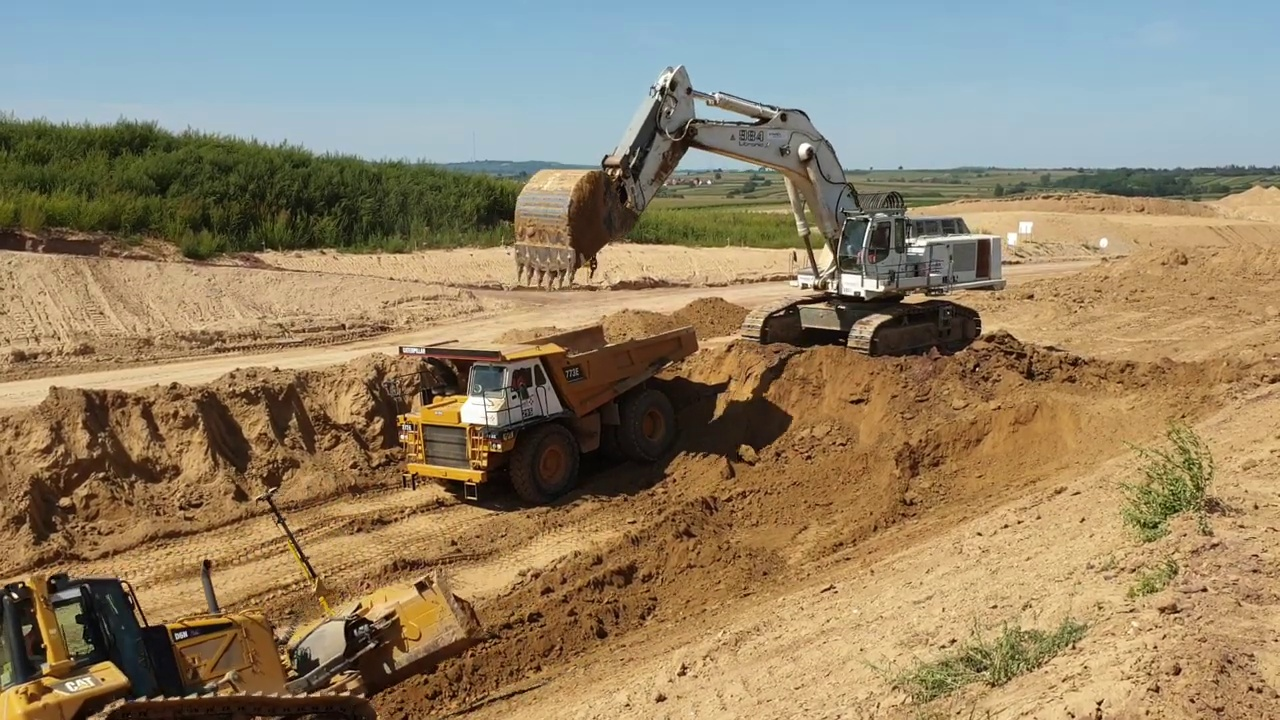bulldozer: (2, 488, 486, 720)
excavator: (506, 55, 1014, 362)
truck: (383, 323, 712, 509)
